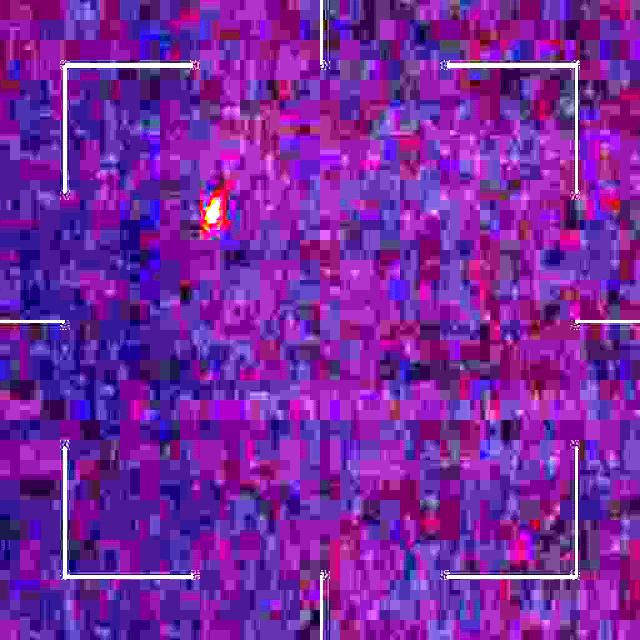bird: (201, 198, 222, 232)
